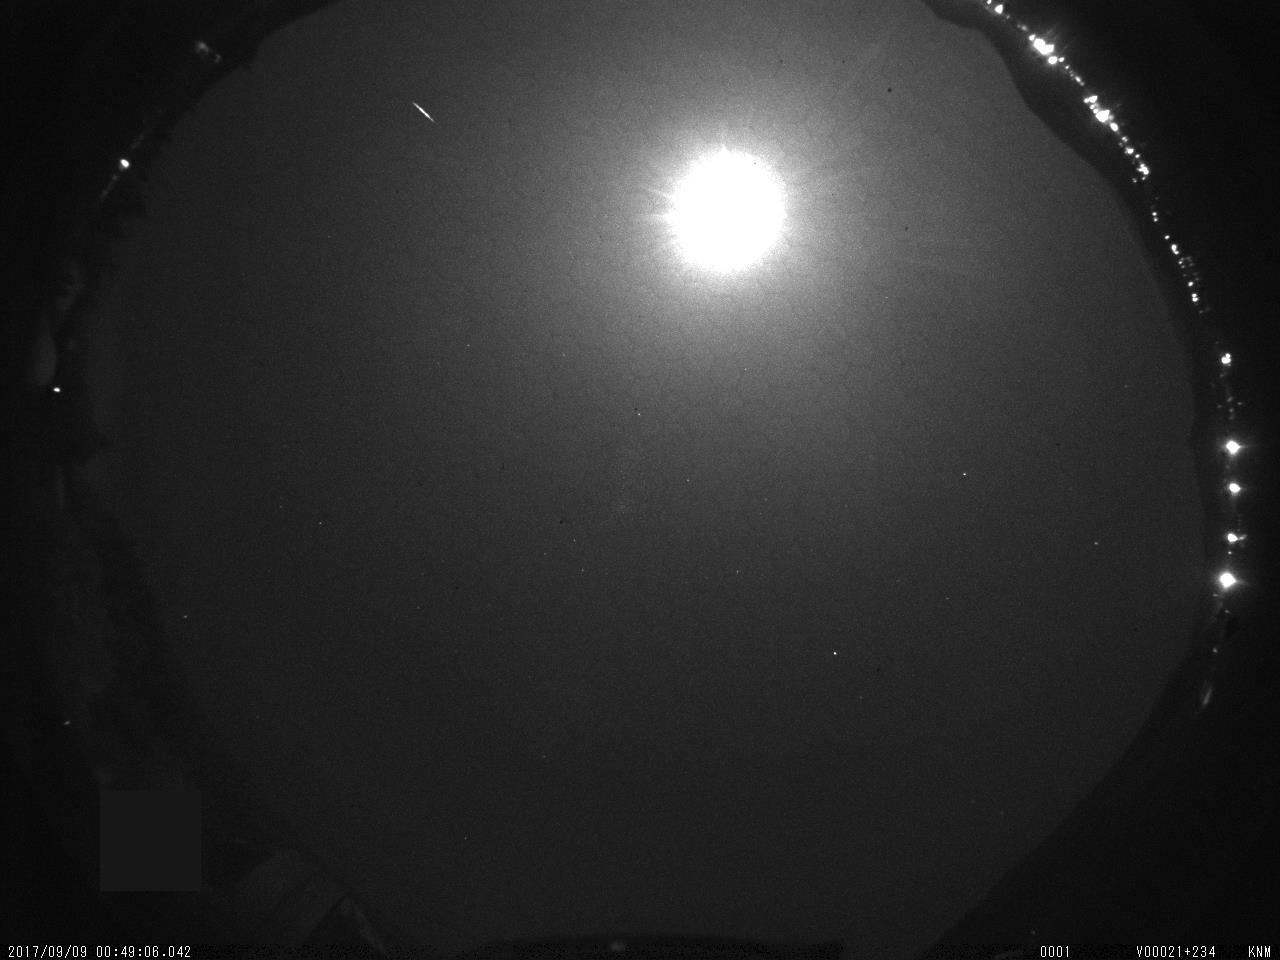meteor: (407, 96, 438, 124)
